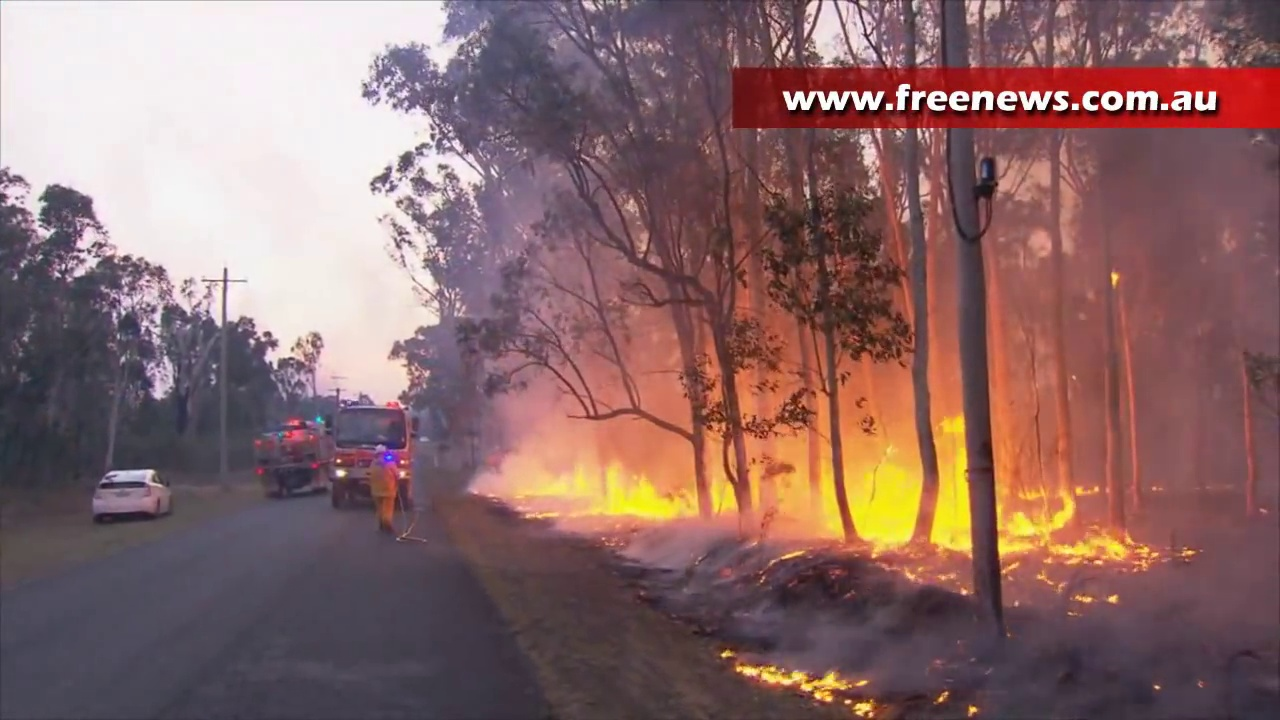fire: (829, 433, 971, 550), (999, 490, 1151, 572), (536, 468, 736, 515), (739, 664, 839, 704), (854, 702, 873, 717)
